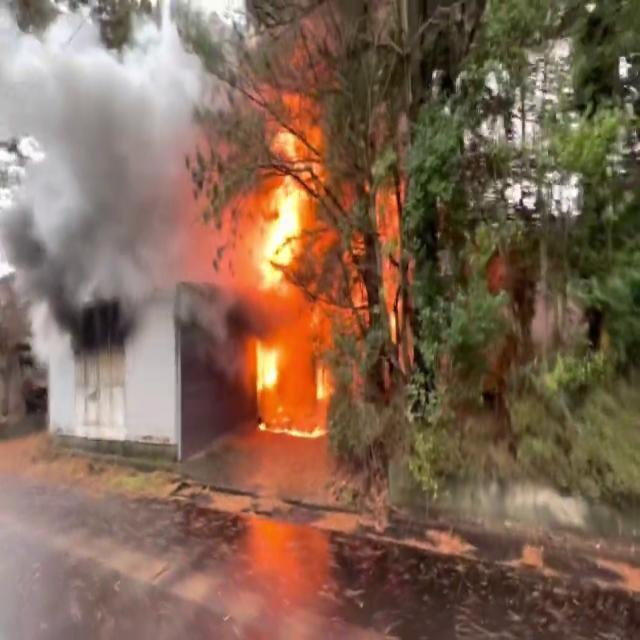Fire: (242, 134, 332, 444)
Smoke: (0, 0, 250, 357)
